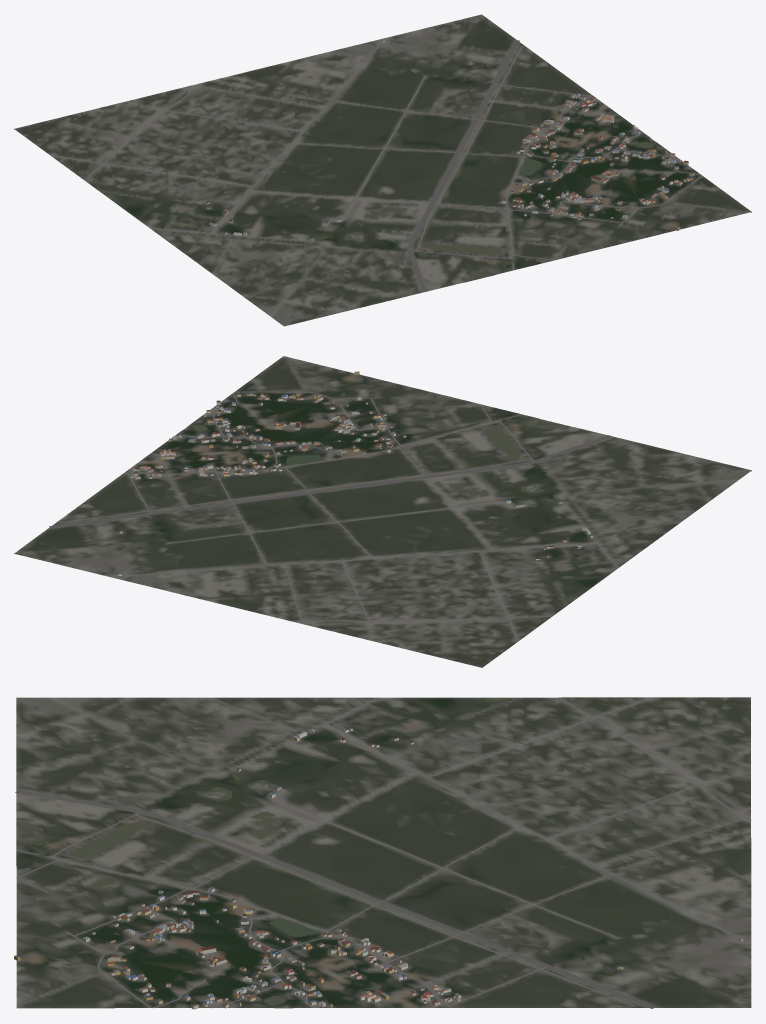
3 views of the same model, one above another, from view 1: azimuth 30°, elevation 25°; view 2: azimuth 150°, elevation 25°; view 3: azimuth 270°, elevation 25° (orthographic). The views are drawn at different scales.
Visible parts, largest first — view 1: ground, roads, buildings, water; view 2: ground, roads, buildings, water; view 3: ground, roads, buildings, water.
Boxes of the visible parts, bbox=[...] form: ground: bbox=[14, 14, 751, 326]; roads: bbox=[49, 38, 748, 291]; buildings: bbox=[206, 40, 694, 240]; water: bbox=[344, 138, 654, 281]; ground: bbox=[14, 356, 751, 667]; roads: bbox=[49, 356, 619, 641]; buildings: bbox=[118, 371, 593, 575]; water: bbox=[184, 419, 569, 496]; ground: bbox=[16, 697, 751, 1008]; roads: bbox=[15, 697, 751, 1008]; buildings: bbox=[14, 728, 742, 1009]; water: bbox=[17, 787, 319, 1007].
Bounding box in the file's own units: 1411 × 13.26 × 1408.
